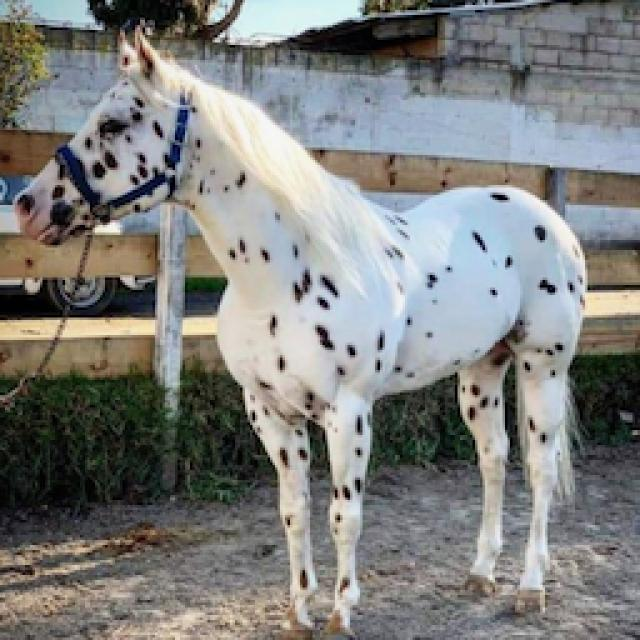Horse: (7, 22, 595, 638)
